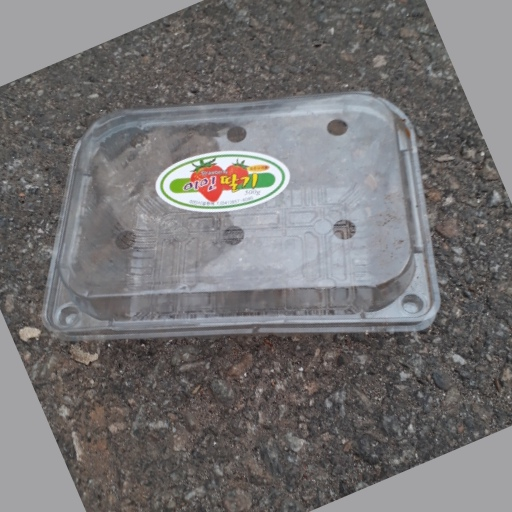Plastic_4: (41, 91, 440, 339)
